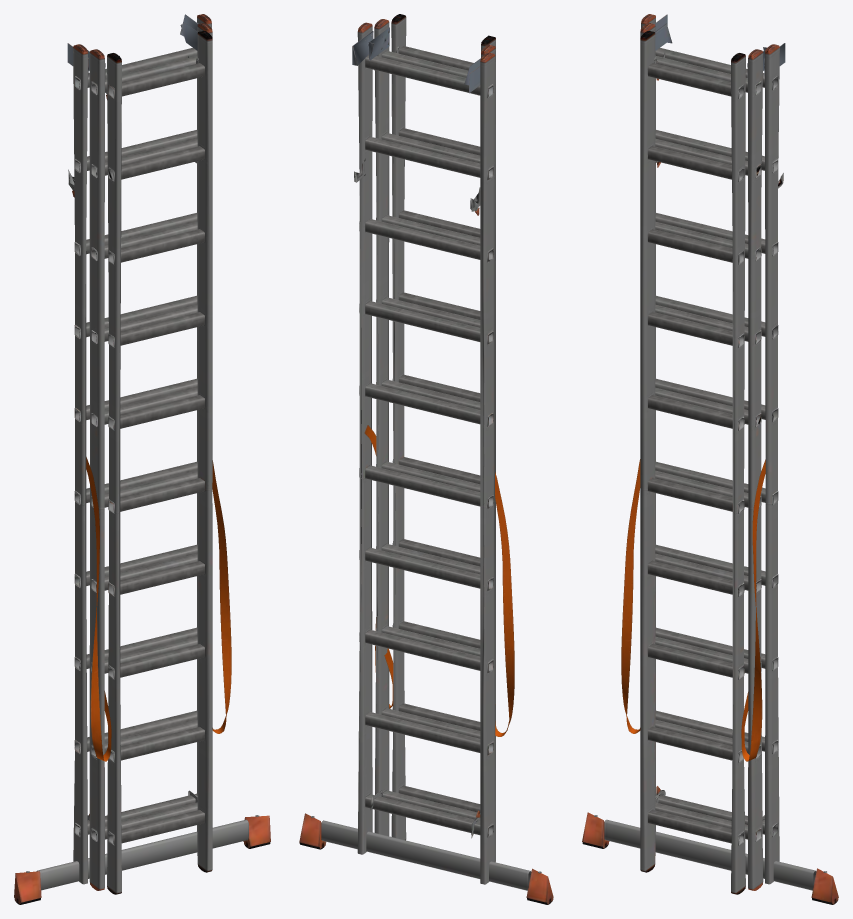
File: ladder.glb
The picture shows the model from 3 angles, left to right: view 1: azimuth 30°, elevation 25°; view 2: azimuth 150°, elevation 25°; view 3: azimuth 330°, elevation 25°; orthographic projection.
Parts seen in each view (by area): view 1: ladder_section_01; view 2: ladder_section_01; view 3: ladder_section_01.
Boxes of the visible parts, x1=… form: ladder_section_01: x1=14, y1=14, x2=270, y2=904; ladder_section_01: x1=299, y1=14, x2=553, y2=904; ladder_section_01: x1=582, y1=14, x2=838, y2=904.
Size of the model in its own units: 0.6616 by 2.13 by 0.1775.
Materials: 1 (1 with a texture image).
